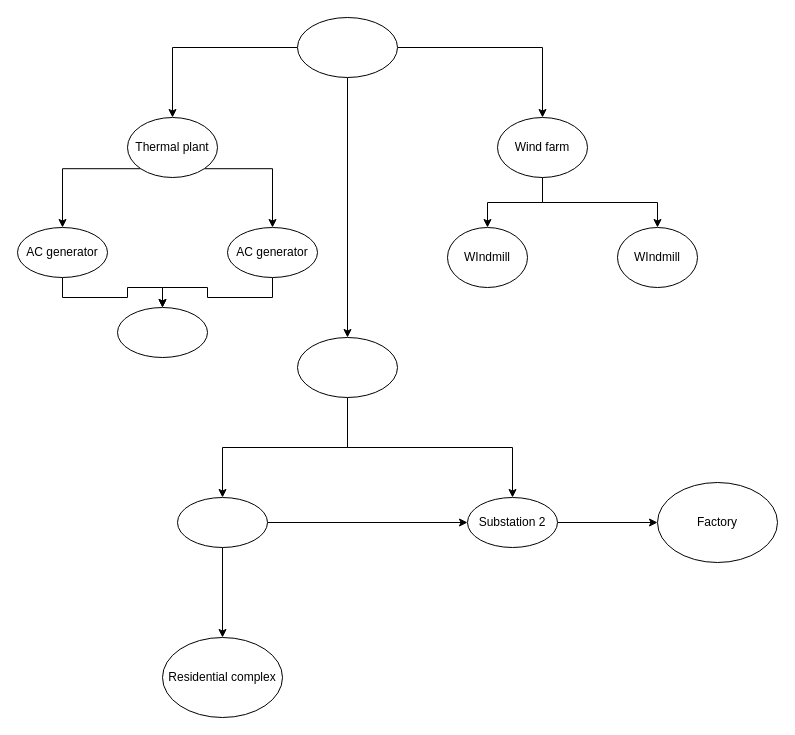
The diagram is 795 pixels wide and 735 high, and some of its shapes have lost their labels. Each missing label, with the centre of its shape:
Boiler: point (162, 332)
Power Grid: point (347, 367)
Power Plant: point (347, 47)
Substation 1: point (222, 522)
